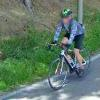bicycles: (47, 39, 92, 91)
